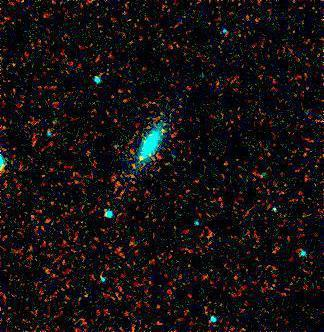star: (124, 144, 154, 174)
